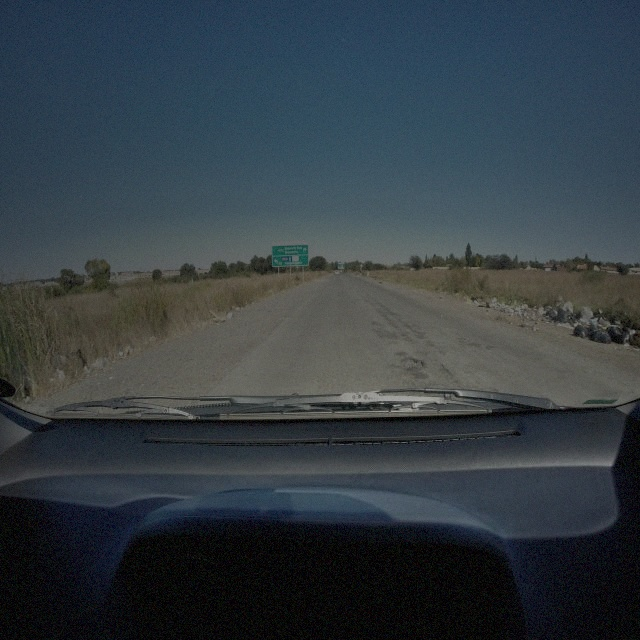pothole: (402, 356, 426, 371), (442, 364, 452, 382)
